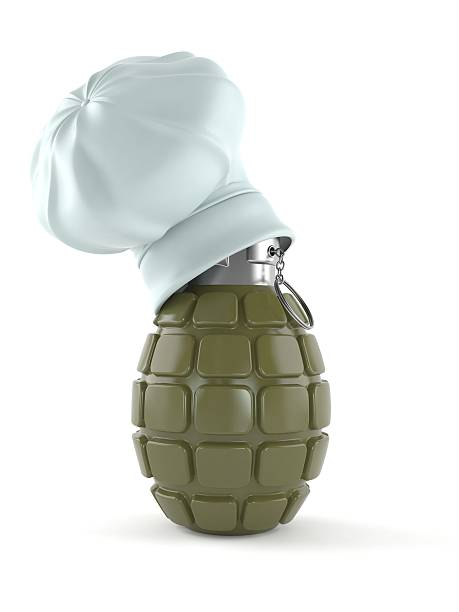e1: (130, 234, 330, 534)
